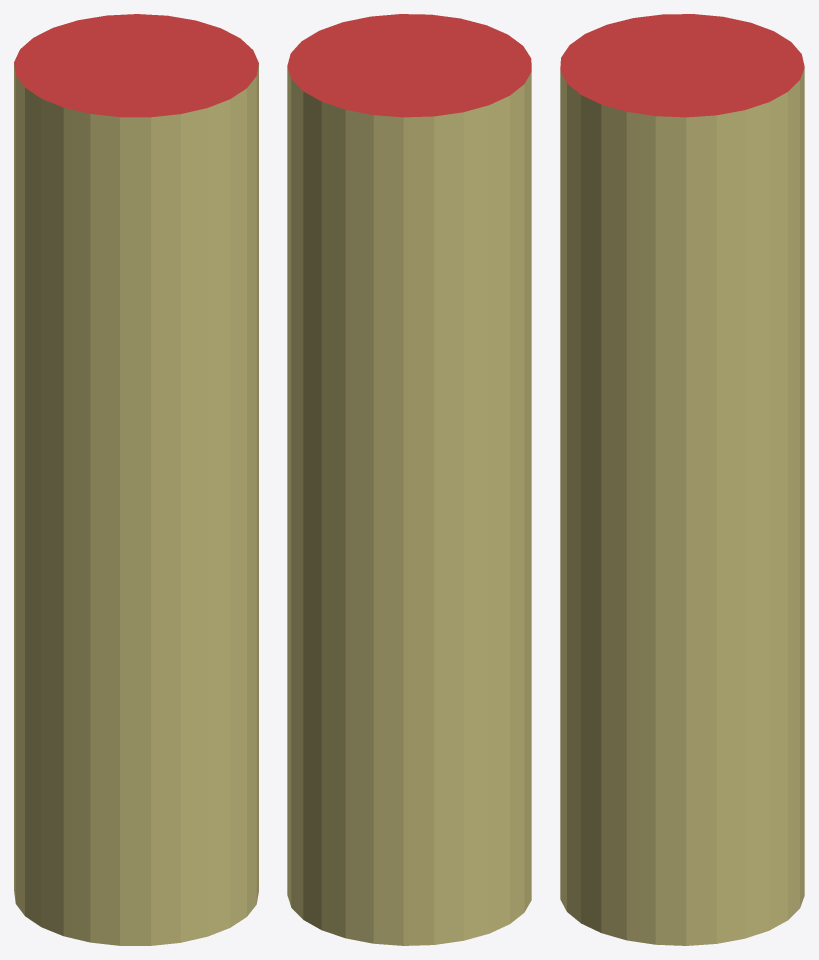
The picture shows the model from 3 angles, left to right: view 1: azimuth 30°, elevation 25°; view 2: azimuth 150°, elevation 25°; view 3: azimuth 270°, elevation 25°; orthographic projection.
Size of the model in its own units: 3.67 by 3.67 by 13.72.
